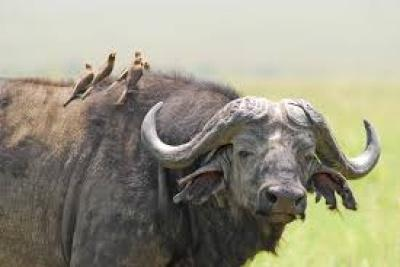buffalo: (60, 50, 378, 267)
